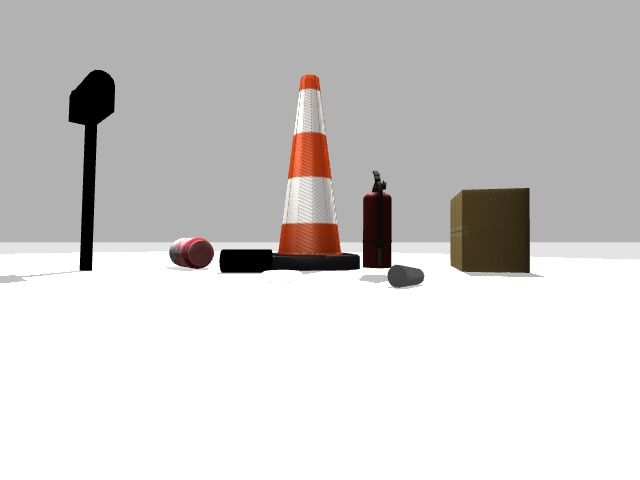boite_lettres: (68, 70, 114, 270)
bol: (260, 270, 302, 282)
bouteille_verre: (220, 249, 272, 272)
canette: (169, 237, 213, 268)
carton: (450, 188, 529, 272)
cone_chantier: (273, 75, 359, 269)
extincteur: (362, 171, 391, 267)
gobelet: (387, 265, 423, 287)
